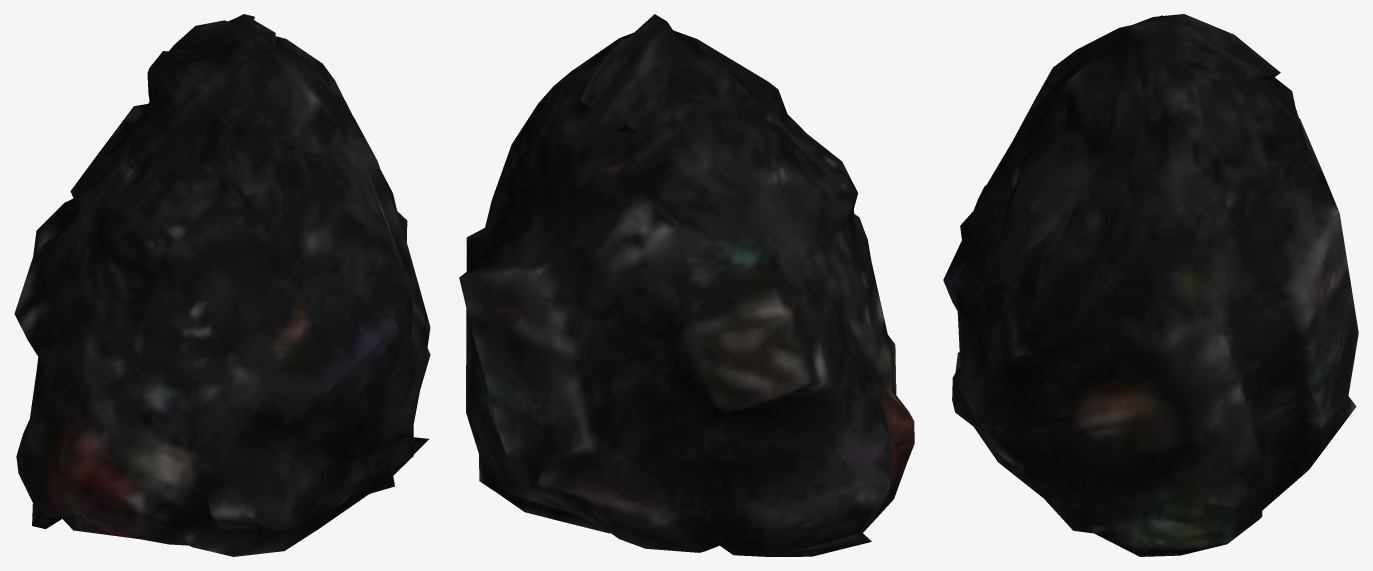
File: trash-low.glb
The picture shows the model from 3 angles, left to right: view 1: azimuth 30°, elevation 25°; view 2: azimuth 150°, elevation 25°; view 3: azimuth 270°, elevation 25°; orthographic projection. The views are drawn at different scales.
Parts seen in each view (by area): view 1: trashbag; view 2: trashbag; view 3: trashbag.
Part boxes in pixels (box(x1,y1,x2,y2)): trashbag: box(14, 14, 430, 556); trashbag: box(459, 14, 914, 556); trashbag: box(943, 14, 1358, 556).
Bounding box in the file's own units: 0.5236 × 0.5684 × 0.4629.
Materials: 1 (1 with a texture image).
